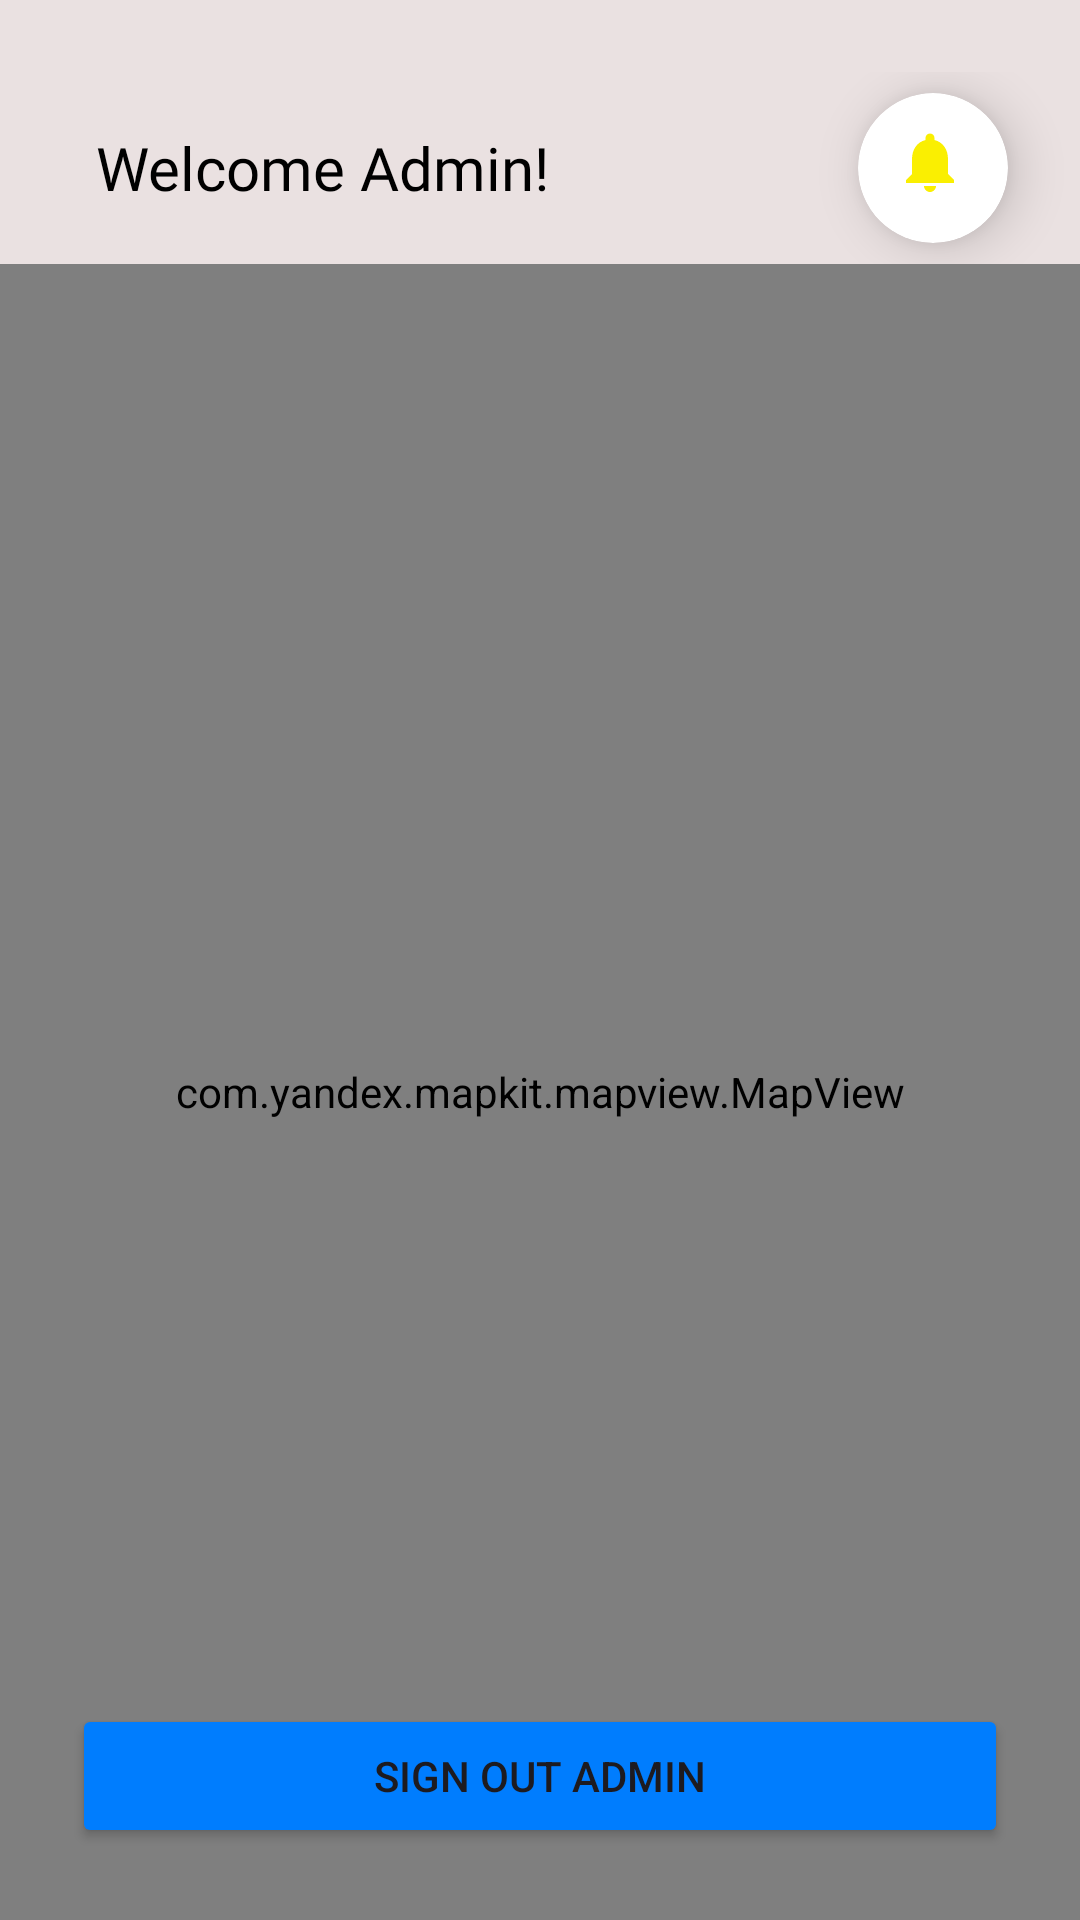

Named icons in this screenshot (1080w x 1920h) and their centers, (x,y):
notifications: (930,162)
